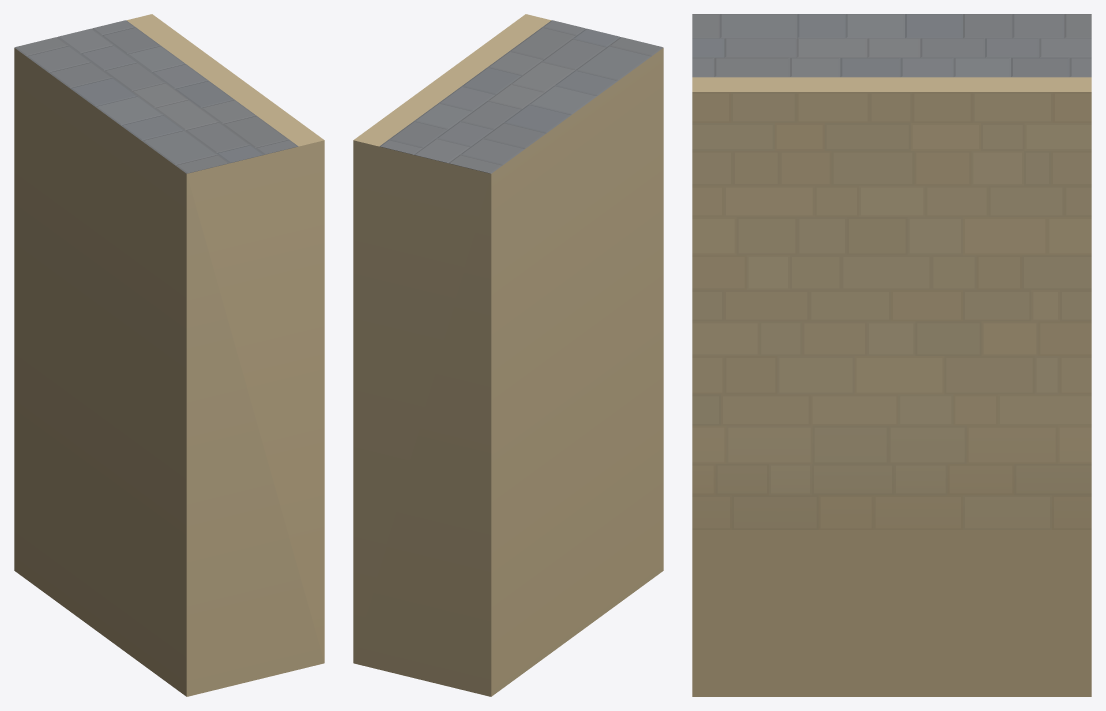
The picture shows the model from 3 angles, left to right: view 1: azimuth 30°, elevation 25°; view 2: azimuth 150°, elevation 25°; view 3: azimuth 270°, elevation 25°; orthographic projection. The views are drawn at different scales.
Visible parts, largest first — view 1: Mesh_Limestone, Mesh_Granite; view 2: Mesh_Limestone, Mesh_Granite; view 3: Mesh_Limestone, Mesh_Granite.
Part boxes in pixels (box(x1,y1,x2,y2)): Mesh_Limestone: box(14, 14, 324, 696); Mesh_Granite: box(14, 20, 298, 173); Mesh_Limestone: box(353, 14, 663, 696); Mesh_Granite: box(379, 20, 663, 173); Mesh_Limestone: box(692, 77, 1091, 696); Mesh_Granite: box(692, 14, 1091, 77).
Bounding box in the file's own units: 2.4 × 8.7 × 5.2.
